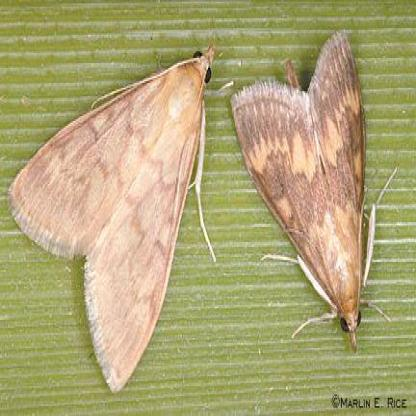stem-borer: (3, 40, 220, 394), (231, 27, 377, 353)
